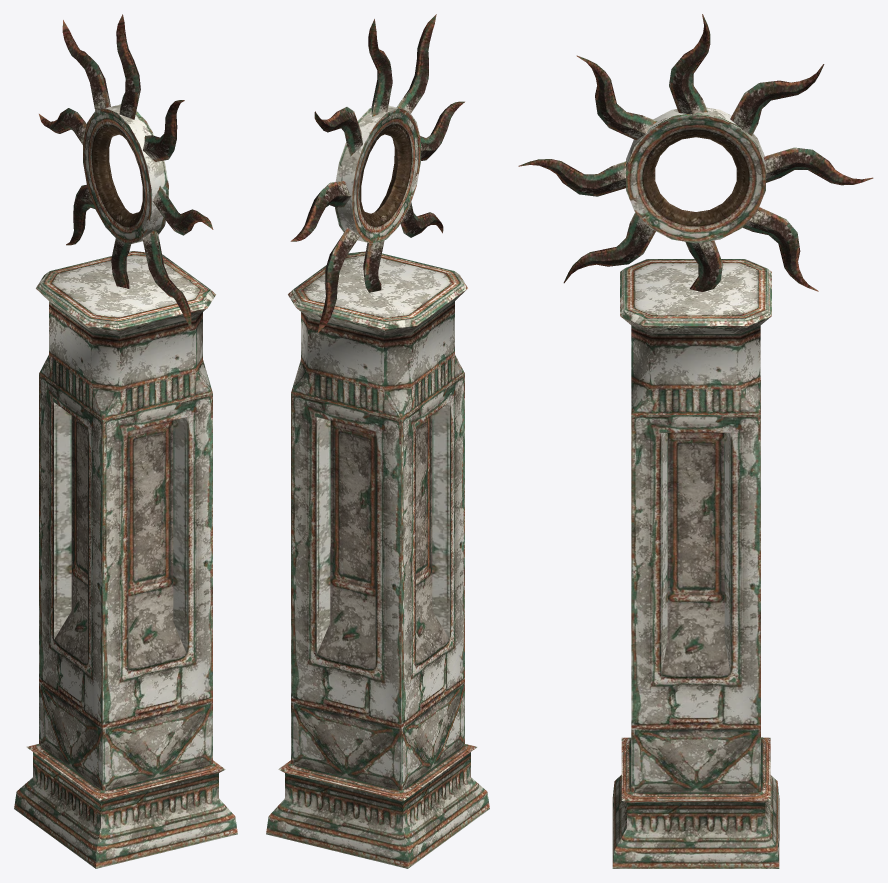
The model's file is o_mdl_env_propSunPillar-transformed.glb.
3 views of the same model, side by side, from view 1: azimuth 30°, elevation 25°; view 2: azimuth 150°, elevation 25°; view 3: azimuth 270°, elevation 25° (orthographic).
Visible parts, largest first — view 1: default; view 2: default; view 3: default.
Part boxes in pixels (x1,y1,x2,y2): default: [14, 14, 237, 868]; default: [266, 14, 489, 868]; default: [518, 14, 873, 868].
Size of the model in its own units: 1.31 by 7.11 by 2.79.
1 material, 1 textured.
